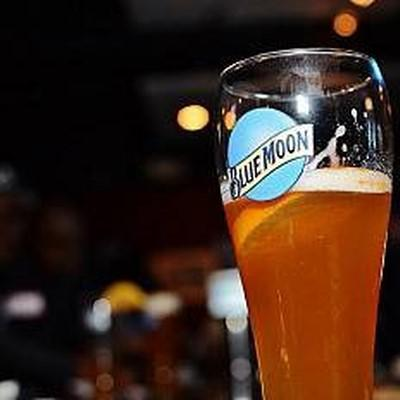beer: (215, 49, 393, 400)
